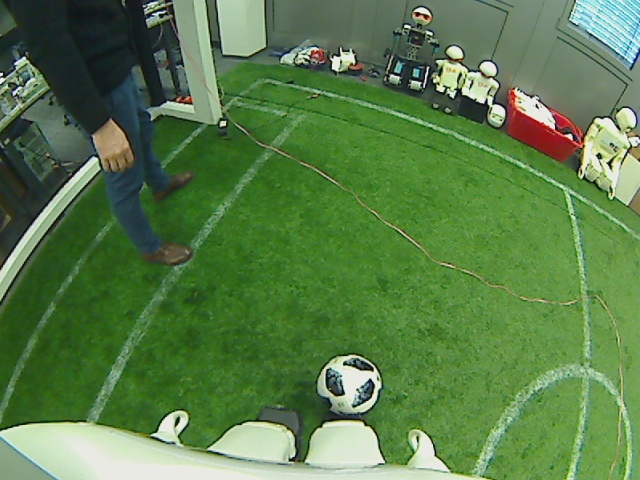ball: (315, 351, 383, 417)
